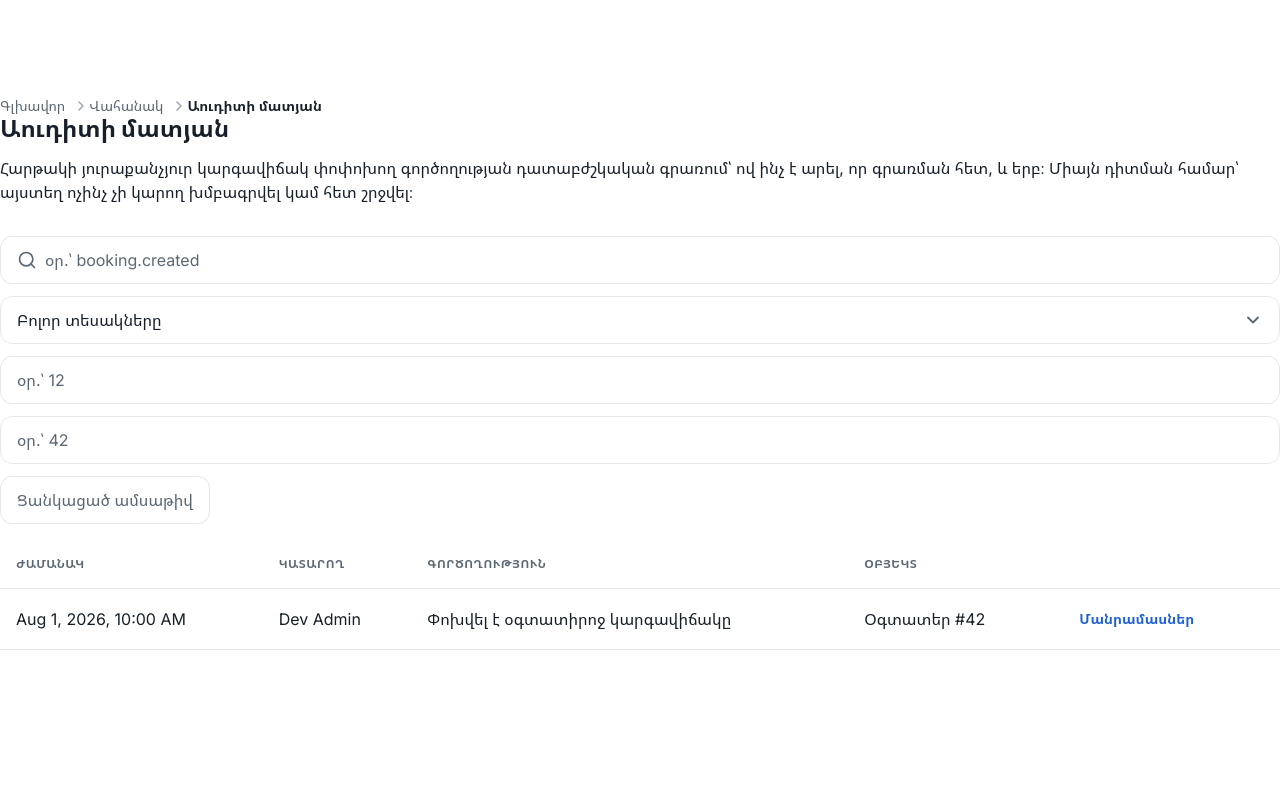
Scenario: AdminAuditLogsPageContent (apps/web/src/modules/admin) › opening Details shows the before/after snapshot, with any sensitive-looking key redacted
Click the button "Մանրամասներ": (1137, 619) [1063,601,1210,637]
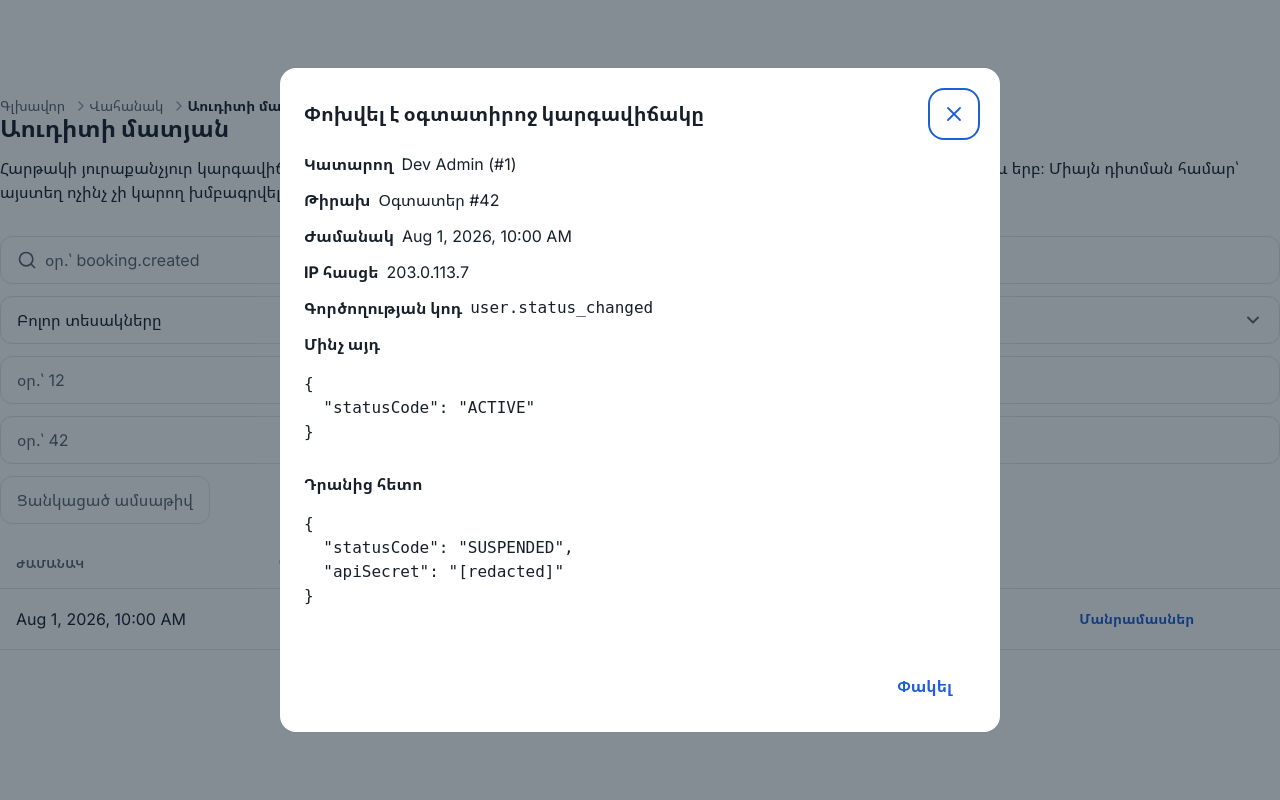
Expected: the dialog shows "203.0.113.7", [386,262,469,282]
Expected: the dialog shows "user.status_changed", [470,298,653,317]
Expected: the dialog shows "\"statusCode\": \"ACTIVE\"", [304,374,535,441]
